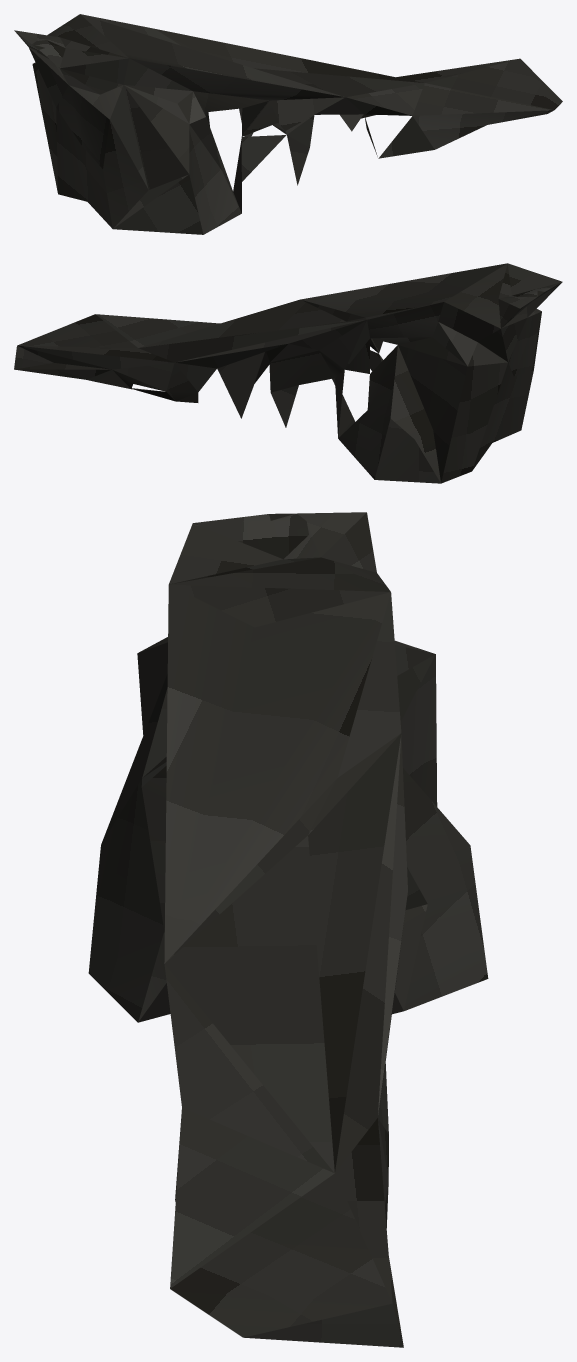
File: stunt-cliff-ramp.collision.glb
3 views of the same model, one above another, from view 1: azimuth 30°, elevation 25°; view 2: azimuth 150°, elevation 25°; view 3: azimuth 270°, elevation 25° (orthographic). The views are drawn at different scales.
Parts seen in each view (by area): view 1: output_unwrapped; view 2: output_unwrapped; view 3: output_unwrapped.
Boxes of the visible parts, x1,y1,x2,y2 form: output_unwrapped: (14,14,562,234); output_unwrapped: (14,263,562,483); output_unwrapped: (88,512,488,1347).
Bounding box in the file's own units: 1.83 × 0.6177 × 0.6316.
1 material, 1 textured.
